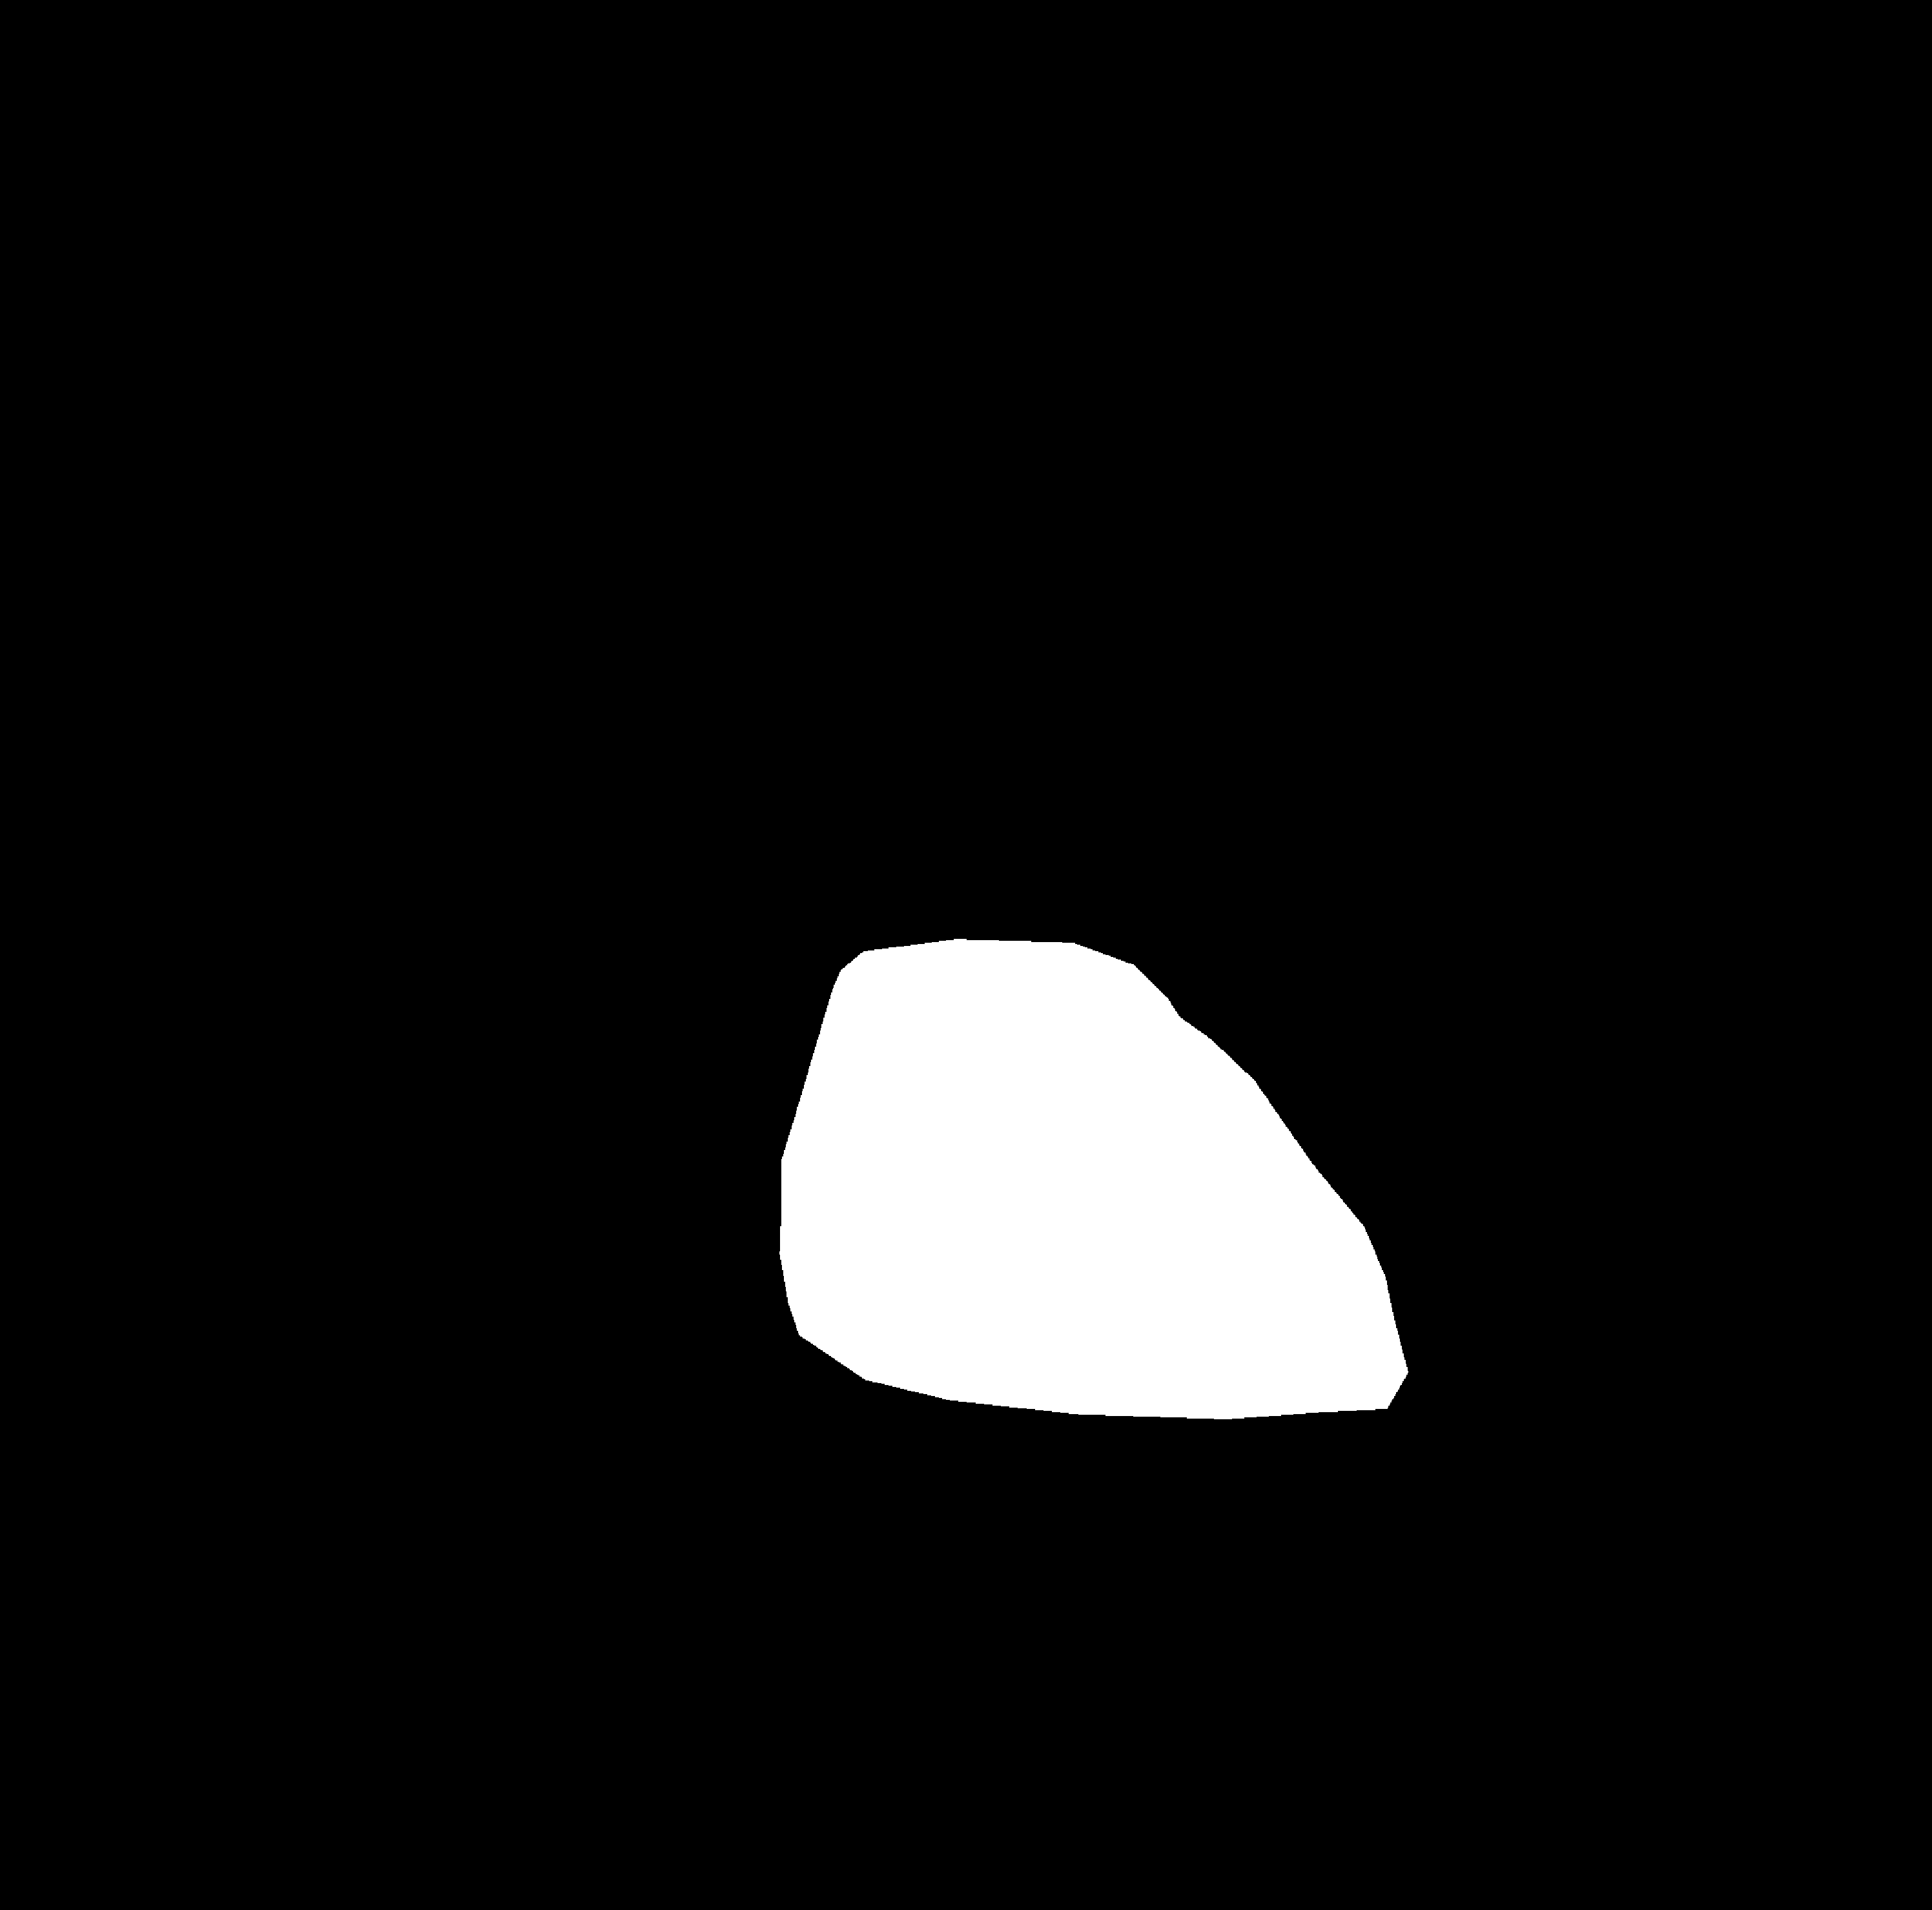heart: (776, 1030, 1402, 1466)
left_lung: (418, 425, 899, 1471)
right_lung: (1018, 416, 1539, 1448)
